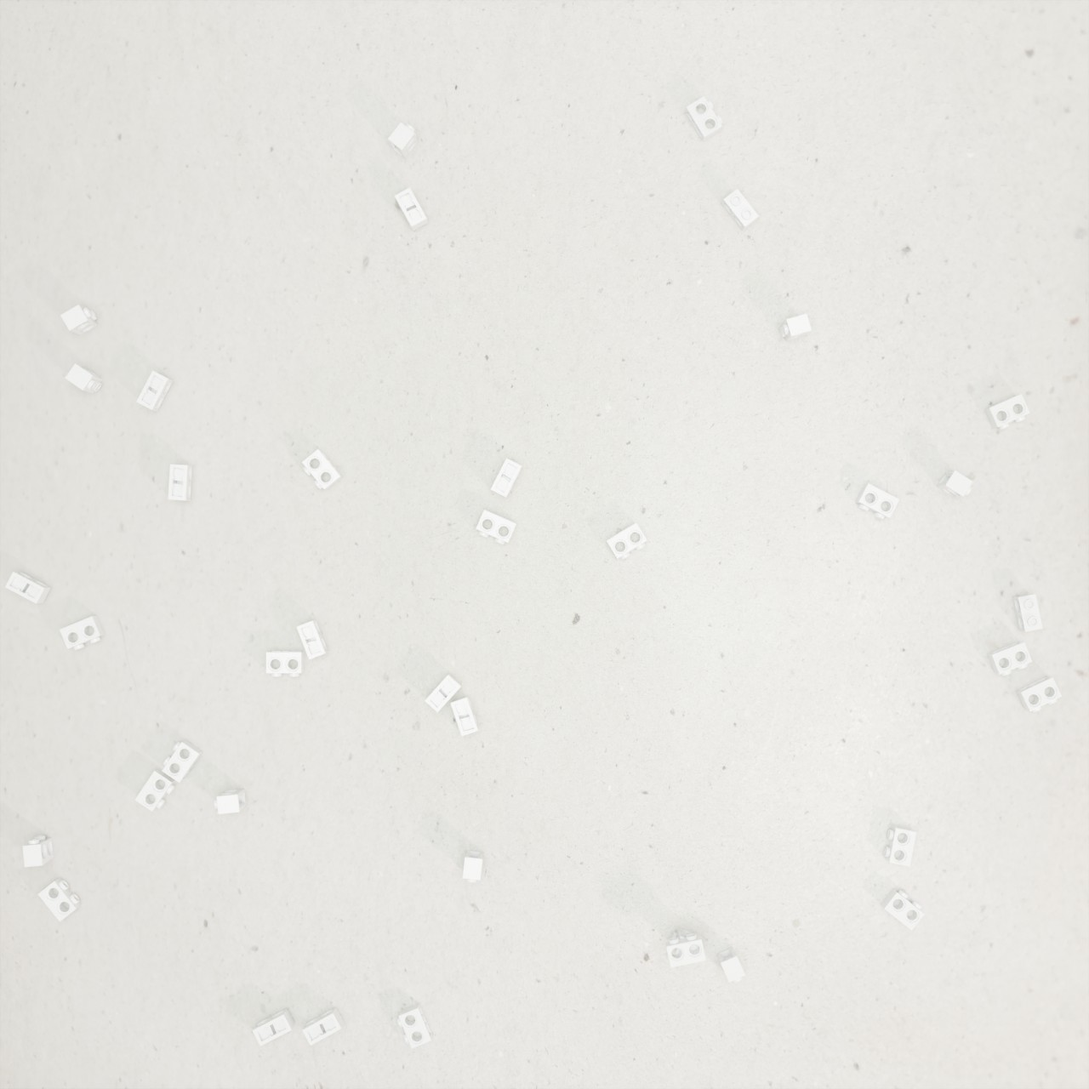lego: (880, 888, 925, 931), (38, 877, 81, 922), (135, 768, 176, 812), (684, 96, 723, 142), (162, 740, 203, 783), (302, 449, 343, 490), (855, 483, 900, 520), (397, 1003, 433, 1049), (984, 394, 1030, 430), (1016, 676, 1062, 712), (59, 615, 105, 651), (302, 1007, 344, 1046), (721, 188, 759, 231), (252, 1008, 295, 1046), (987, 641, 1032, 676), (606, 522, 647, 560), (136, 370, 173, 412), (394, 187, 429, 231), (424, 673, 462, 713), (5, 571, 51, 604), (476, 509, 517, 545), (665, 933, 706, 968), (884, 825, 917, 867), (296, 619, 329, 660), (490, 458, 522, 498), (60, 304, 98, 336), (1012, 593, 1043, 632), (450, 695, 479, 736), (65, 363, 103, 394), (388, 122, 418, 159), (717, 947, 746, 983), (936, 470, 973, 498), (22, 835, 54, 867), (266, 651, 304, 677), (671, 928, 701, 959), (168, 464, 193, 501), (779, 313, 812, 341), (214, 789, 246, 814), (463, 850, 484, 883)
